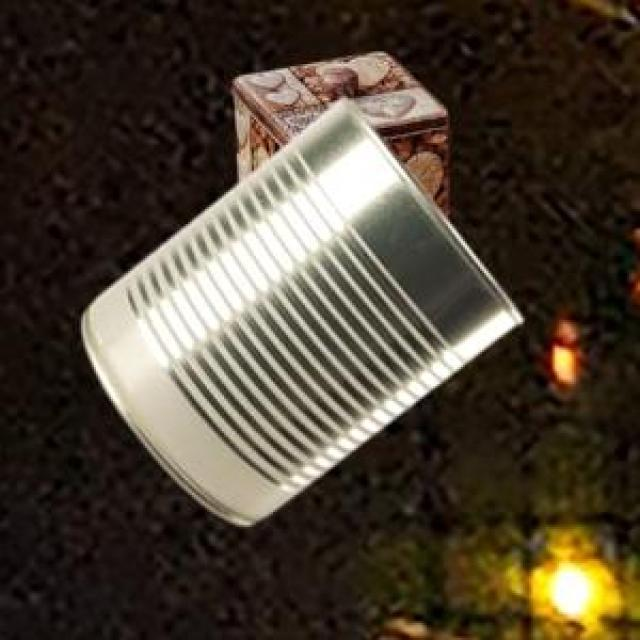Can: (80, 95, 519, 522), (229, 50, 445, 217)
